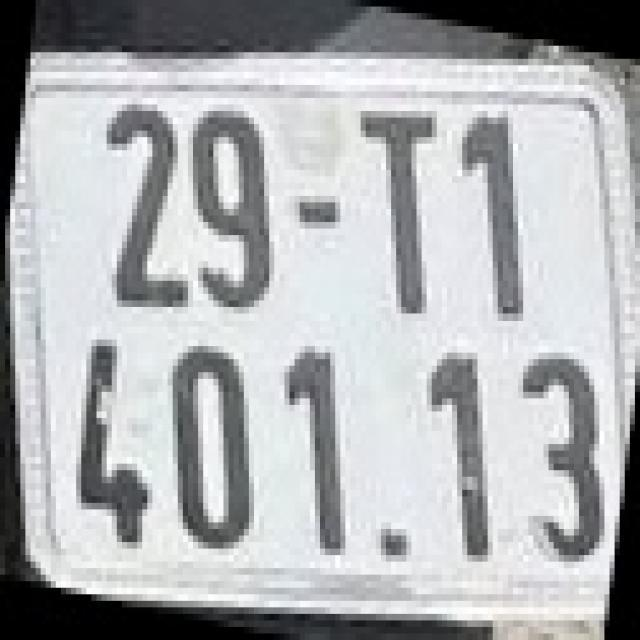0: (168, 340, 259, 556)
1: (457, 104, 539, 320), (279, 340, 361, 556), (422, 346, 498, 562)
2: (96, 92, 188, 314)
3: (518, 346, 610, 562)
4: (66, 333, 158, 549)
9: (188, 98, 279, 314)
T: (350, 104, 447, 320)
